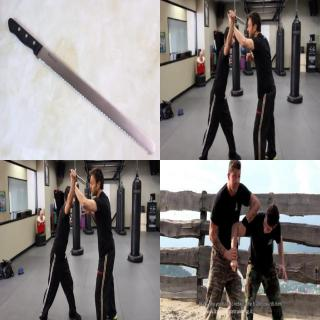knife: (37, 34, 159, 160), (227, 8, 245, 26), (68, 168, 86, 186), (230, 261, 244, 281)
